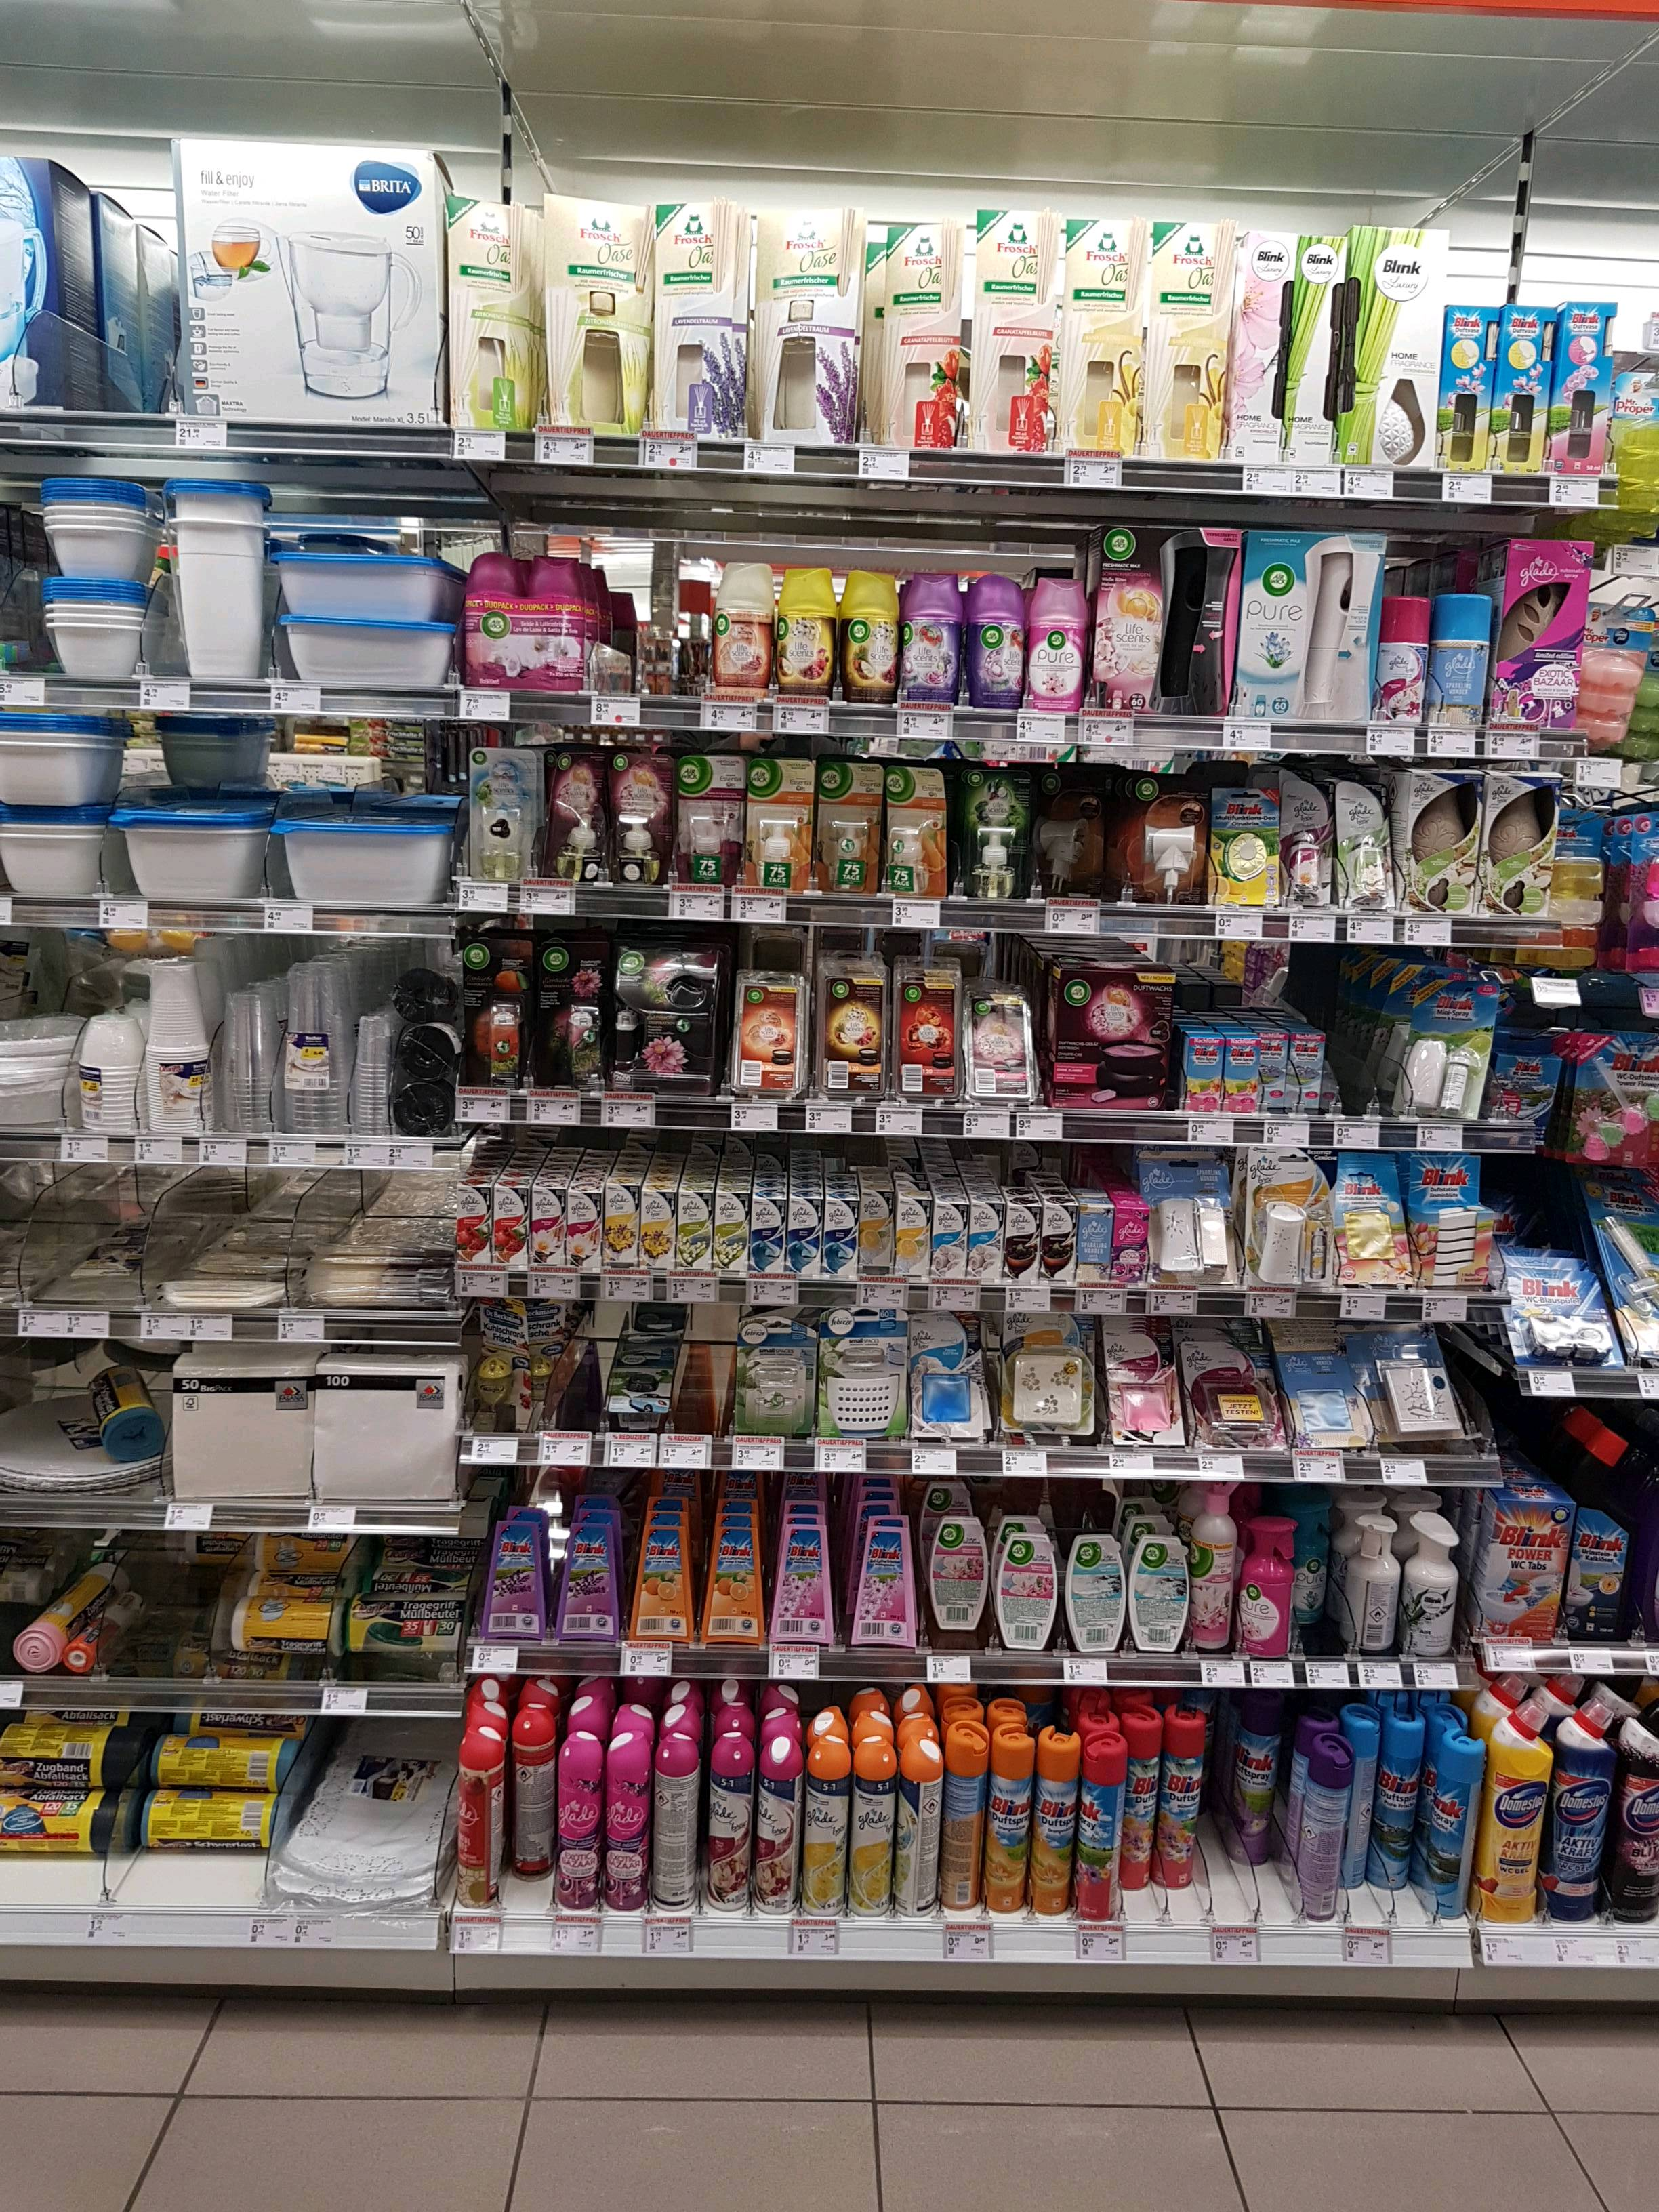Misplacement: (1126, 1710, 1434, 1928)
